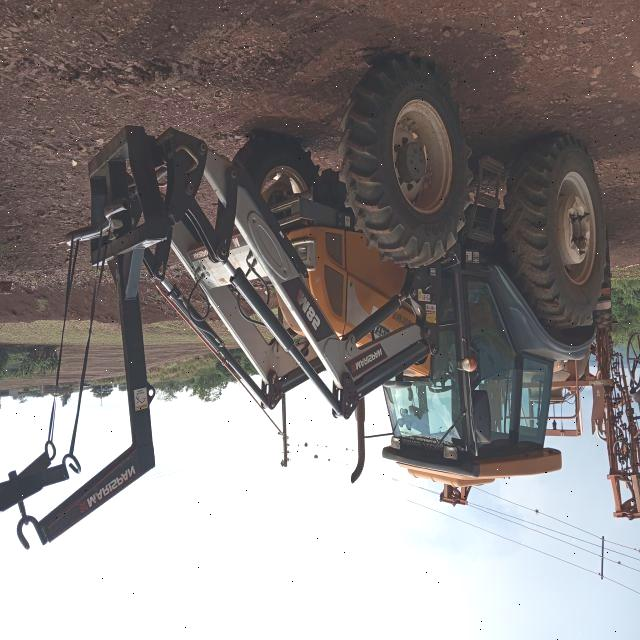Tratores - v5 YOLO V8L 2024-11-13: (237, 56, 610, 524)
